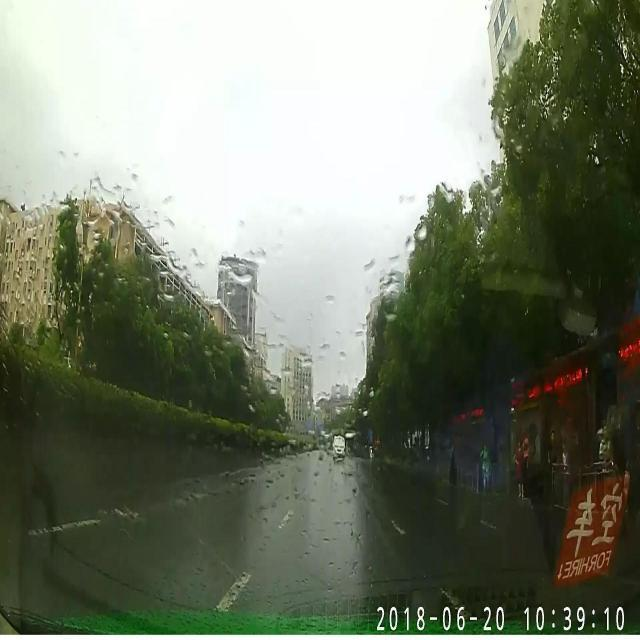car: (332, 434, 346, 458)
